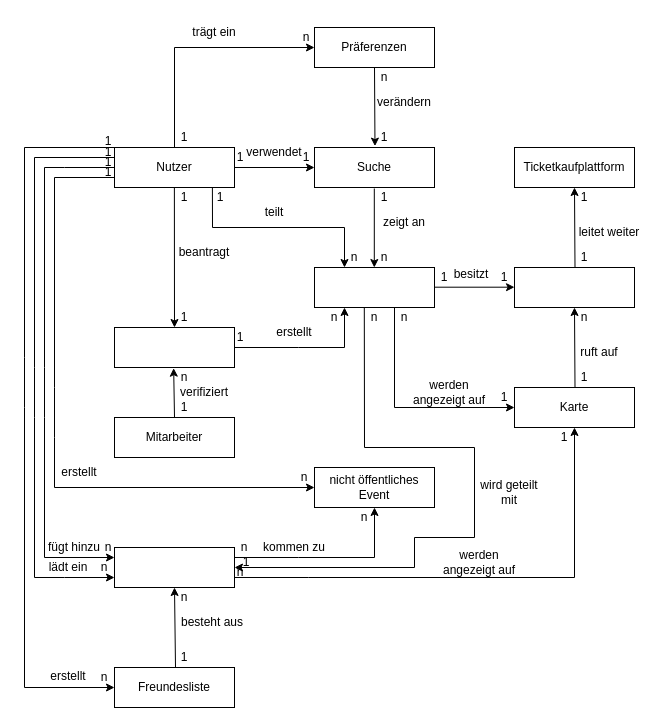
Image size: 662x725. Some labels were removed from this diagram. The shapes that lost their labels are listed below. From the top down, each one's box as (x1, y1, x2, y2) in pixels, then its label:
(314, 266, 434, 308): öffentliches Event
(514, 266, 634, 308): Detaileventbeschreibung
(114, 326, 234, 368): Unternehmensprofil
(114, 546, 234, 588): Freund
